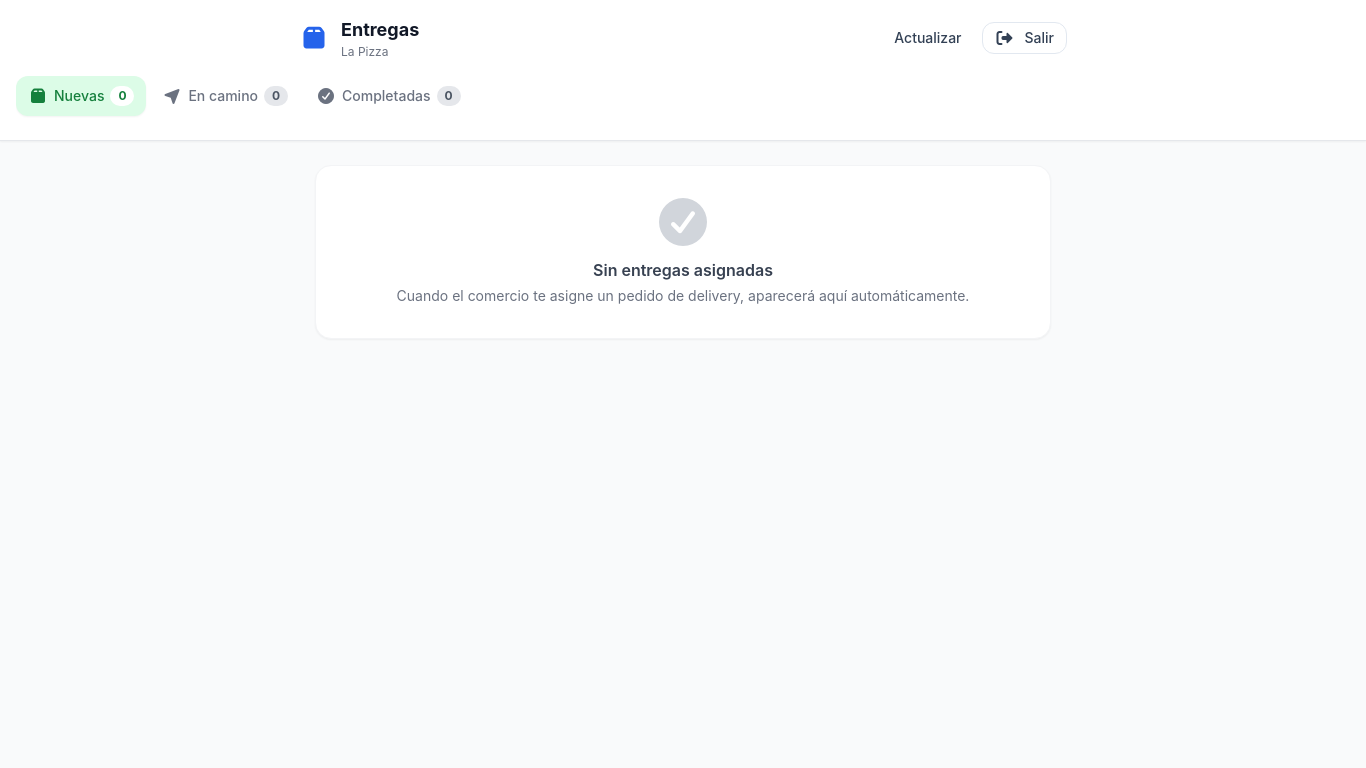
Test case: DriverDeliveriesPage › filtra completadas por semana y navega hacia semanas anteriores
Click the tab with test id "tab-delivered" at (388, 96), box [304, 76, 472, 116]
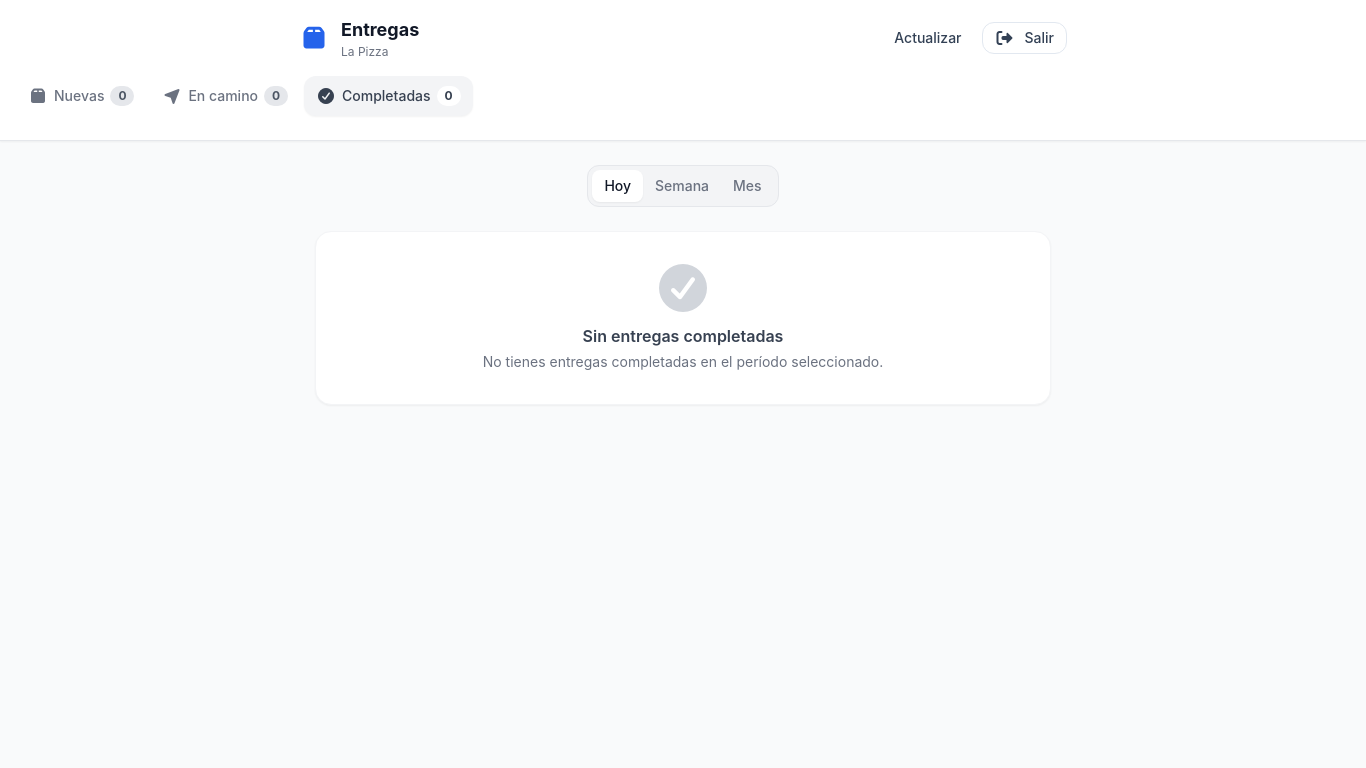
Result: the panel with test id "orders-panel-delivered" is shown at [315, 231, 1051, 405]
Click the button with test id "completed-period-week" at (682, 186), box [643, 170, 721, 202]
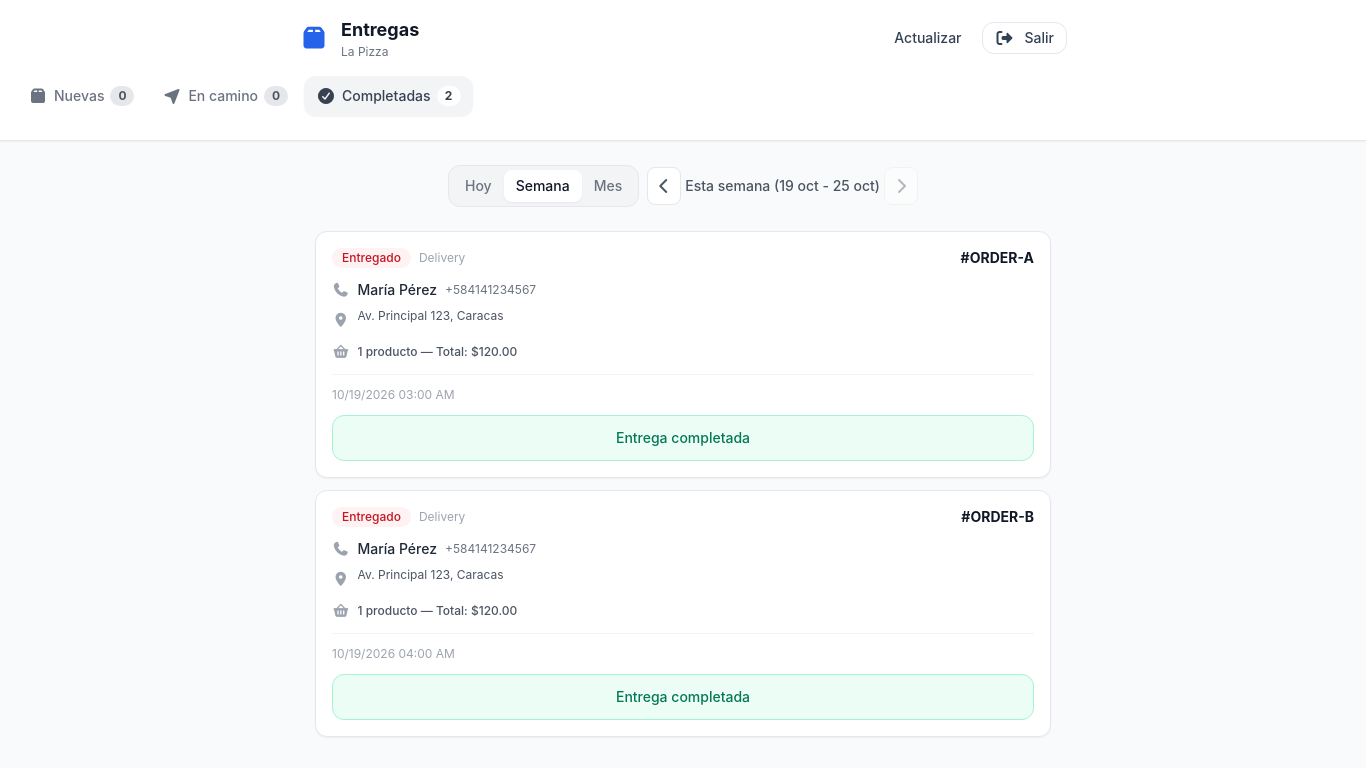
Result: the number of buttons with test id "delivery-card" is 2 at [315, 231, 1051, 478]; [315, 490, 1051, 737]
Note: Al navegar hacia la semana anterior solo queda la entrega de esa semana.
Click the button with test id "completed-period-prev" at (664, 186), box [647, 167, 681, 205]
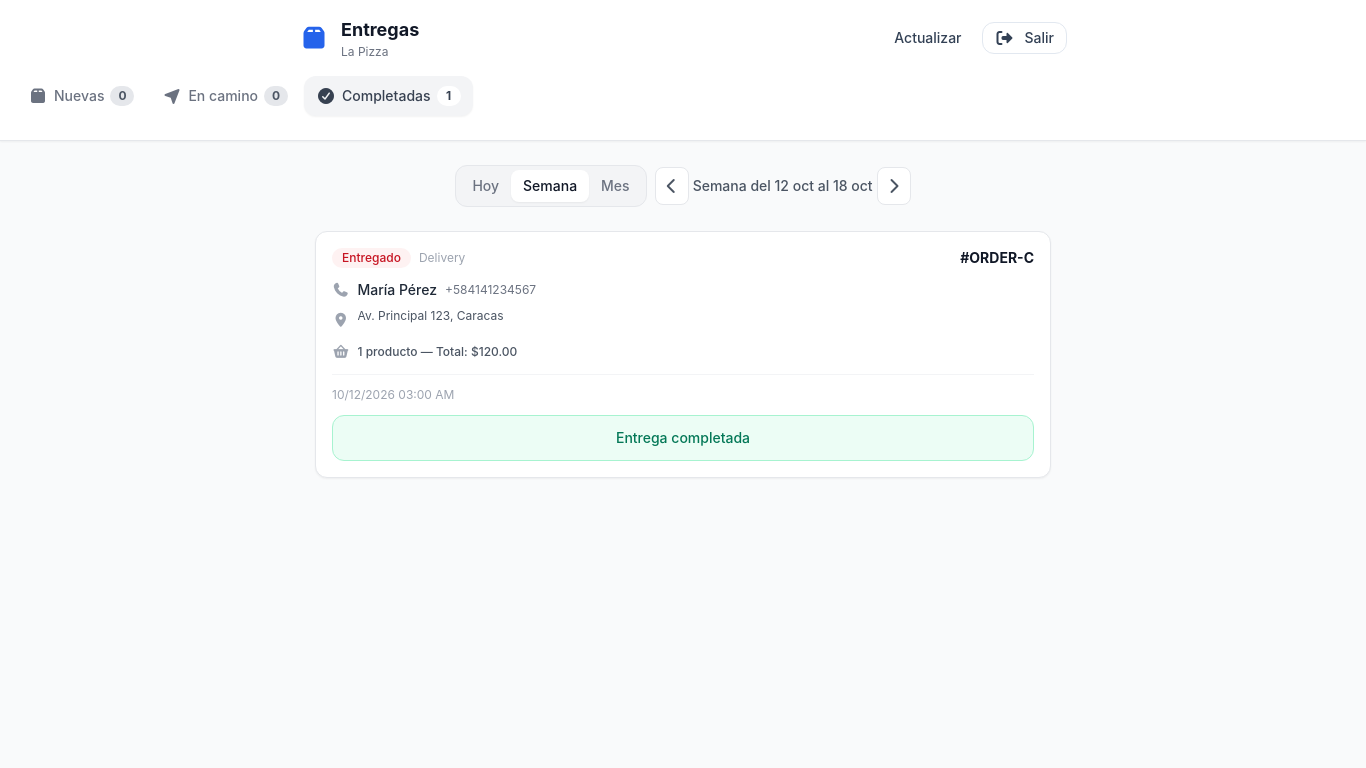
Result: the number of buttons with test id "delivery-card" is 1 at [315, 231, 1051, 478]
Result: the button with test id "completed-period-next" is enabled at [877, 167, 911, 205]
